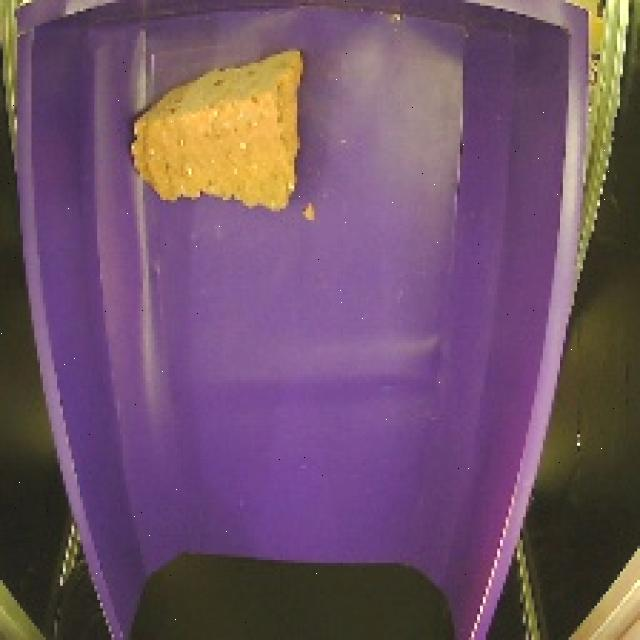brick: (120, 43, 317, 218)
